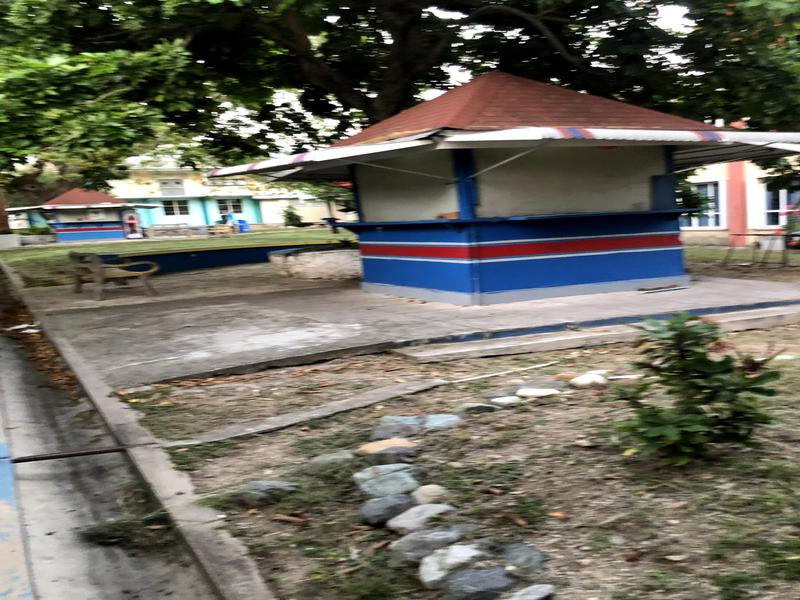18.0050609_-76.7496662_auntyjackie: (202, 43, 800, 333)
